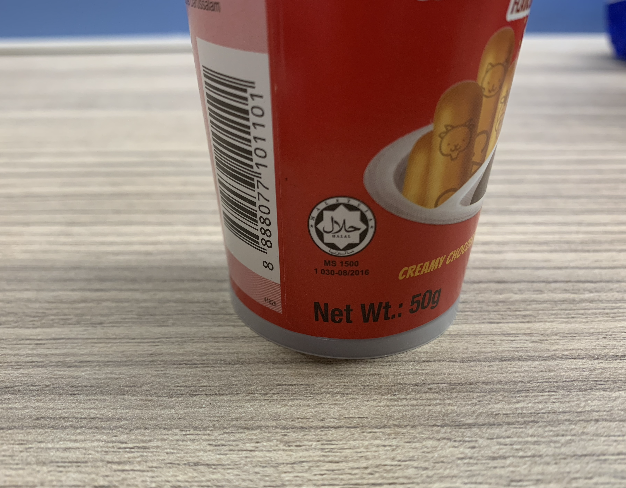halal: (321, 206, 365, 245)
